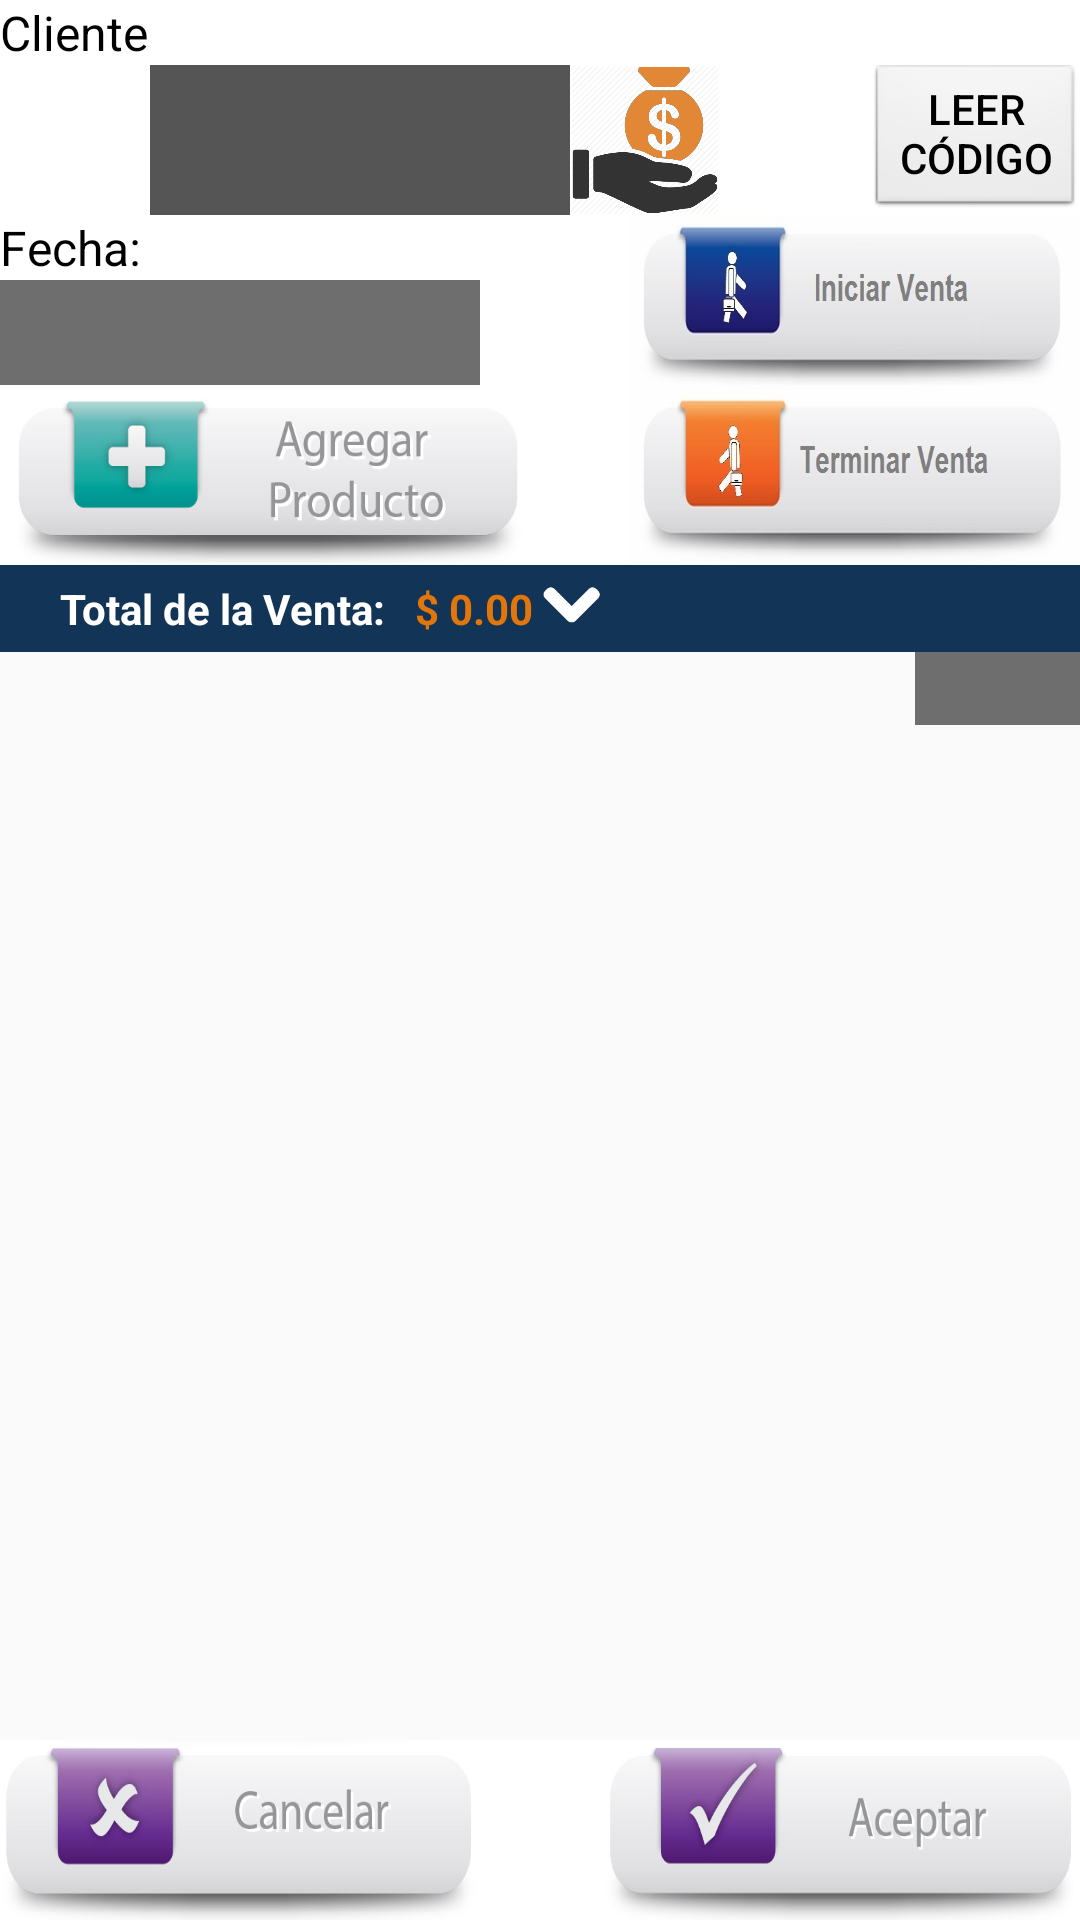

Named icons in this screenshot (1080w x 1920h) and their centers, [x,y]:
despliegue: [571,605]
pagar: [644,140]
